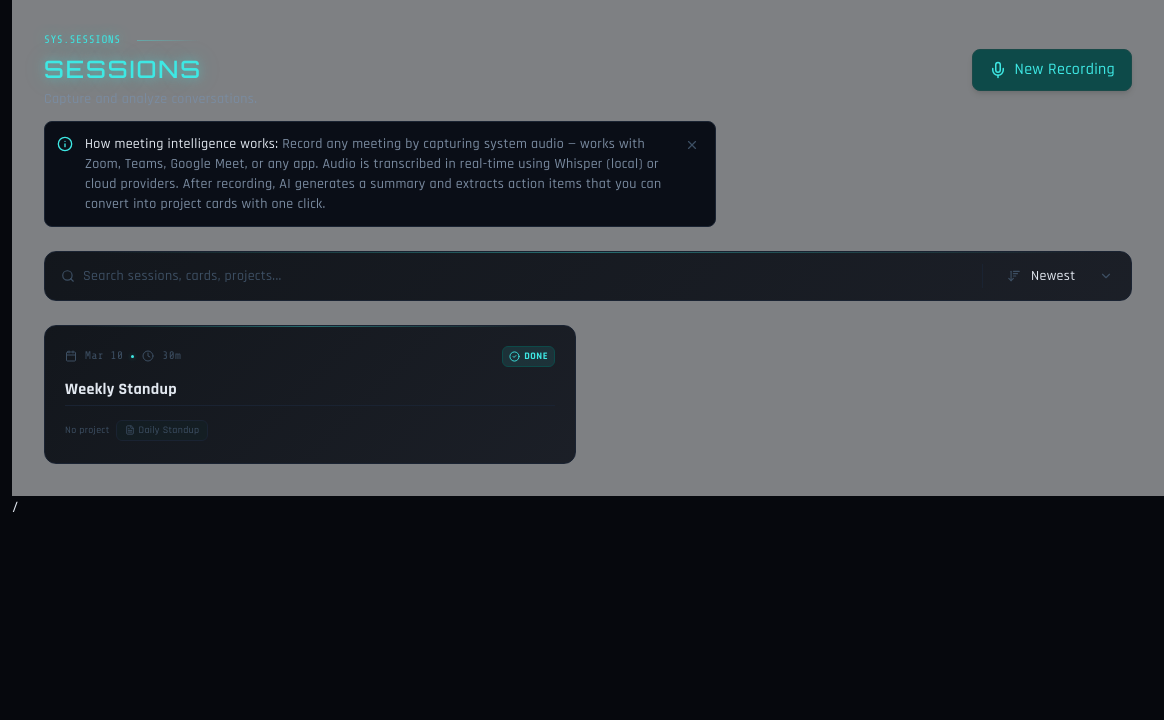
it: SessionsHome › row click navigates to the routed session page (/session/:id)
Click the heading "Weekly Standup". click: (121, 389)
box: [65,378,177,400]
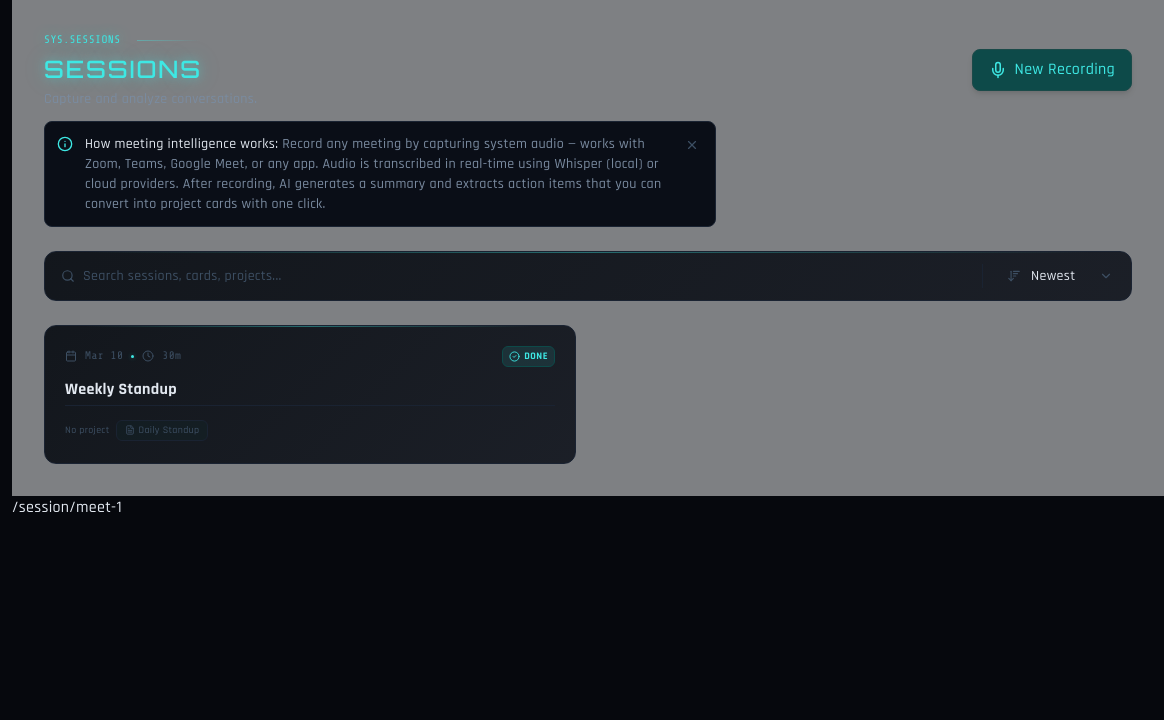
Expected: the text with test id "location" reads "/session/meet-1", [12,496,122,518]
